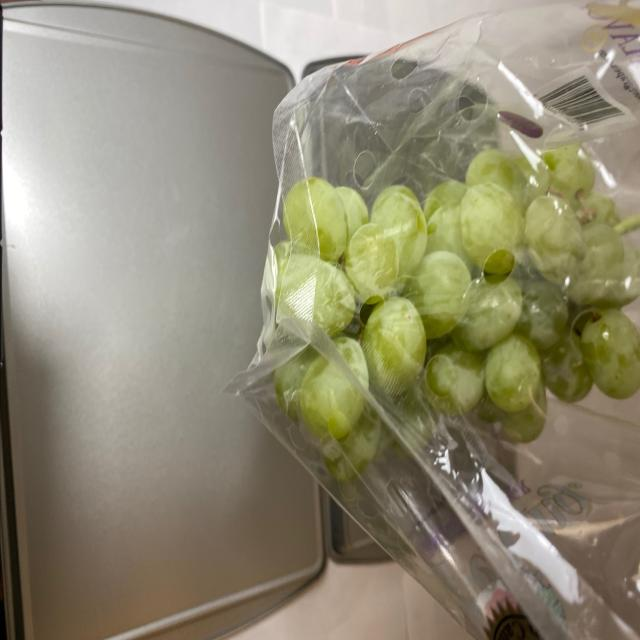grapes: (294, 142, 635, 482)
